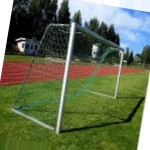goals: (10, 20, 128, 136)
